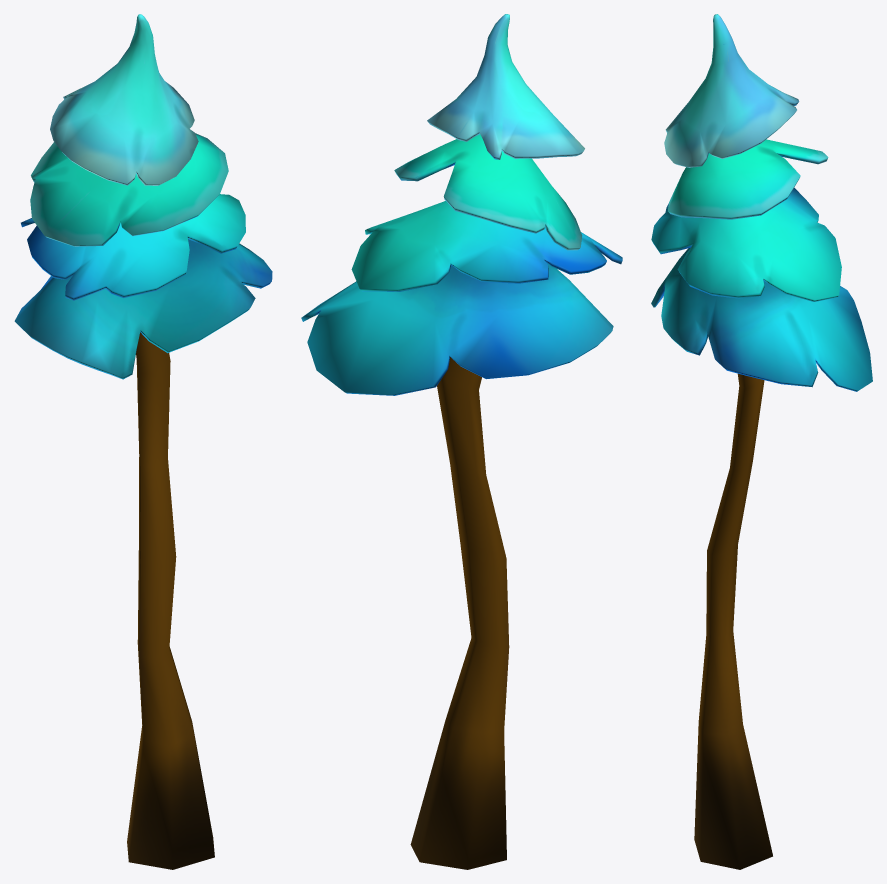
Rendered from TreeStyle2Blue_08.fbx.
3 views of the same model, side by side, from view 1: azimuth 30°, elevation 25°; view 2: azimuth 150°, elevation 25°; view 3: azimuth 270°, elevation 25° (orthographic). The views are drawn at different scales.
Parts seen in each view (by area): view 1: TreeStyle2_08; view 2: TreeStyle2_08; view 3: TreeStyle2_08.
Boxes of the visible parts, x1,y1,x2,y2 form: TreeStyle2_08: (14, 14, 272, 869); TreeStyle2_08: (301, 14, 622, 869); TreeStyle2_08: (651, 14, 872, 869).
Size of the model in its own units: 525 by 1643 by 405.
